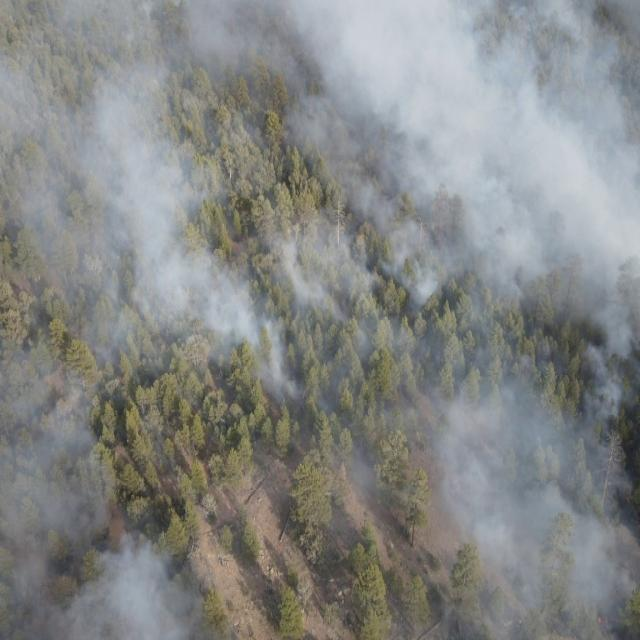fire: (593, 614, 611, 627), (117, 375, 126, 383)
smoke: (0, 2, 640, 399), (315, 397, 640, 640), (0, 400, 201, 640)
